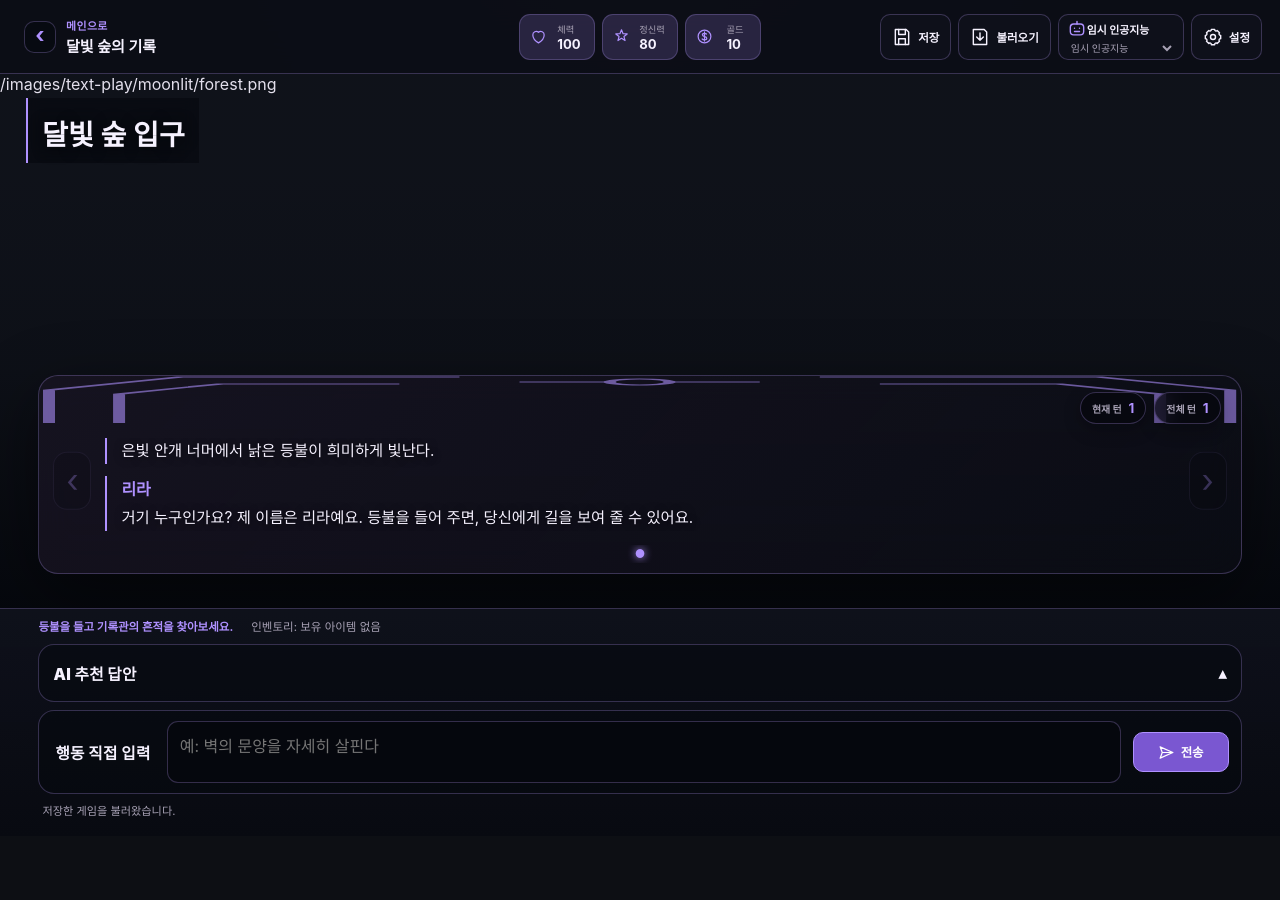
Text-Play 영어 화면 › 플레이 중 언어를 바꾸면 화면만 바뀌고 저장을 다시 불러오지 않는다
expect the text "저장한 게임을 불러왔습니다." is shown: met, box [42, 804, 175, 820]
Click the button with aria-label "게임 설정 열기": x=1226, y=36 [1191, 14, 1262, 60]
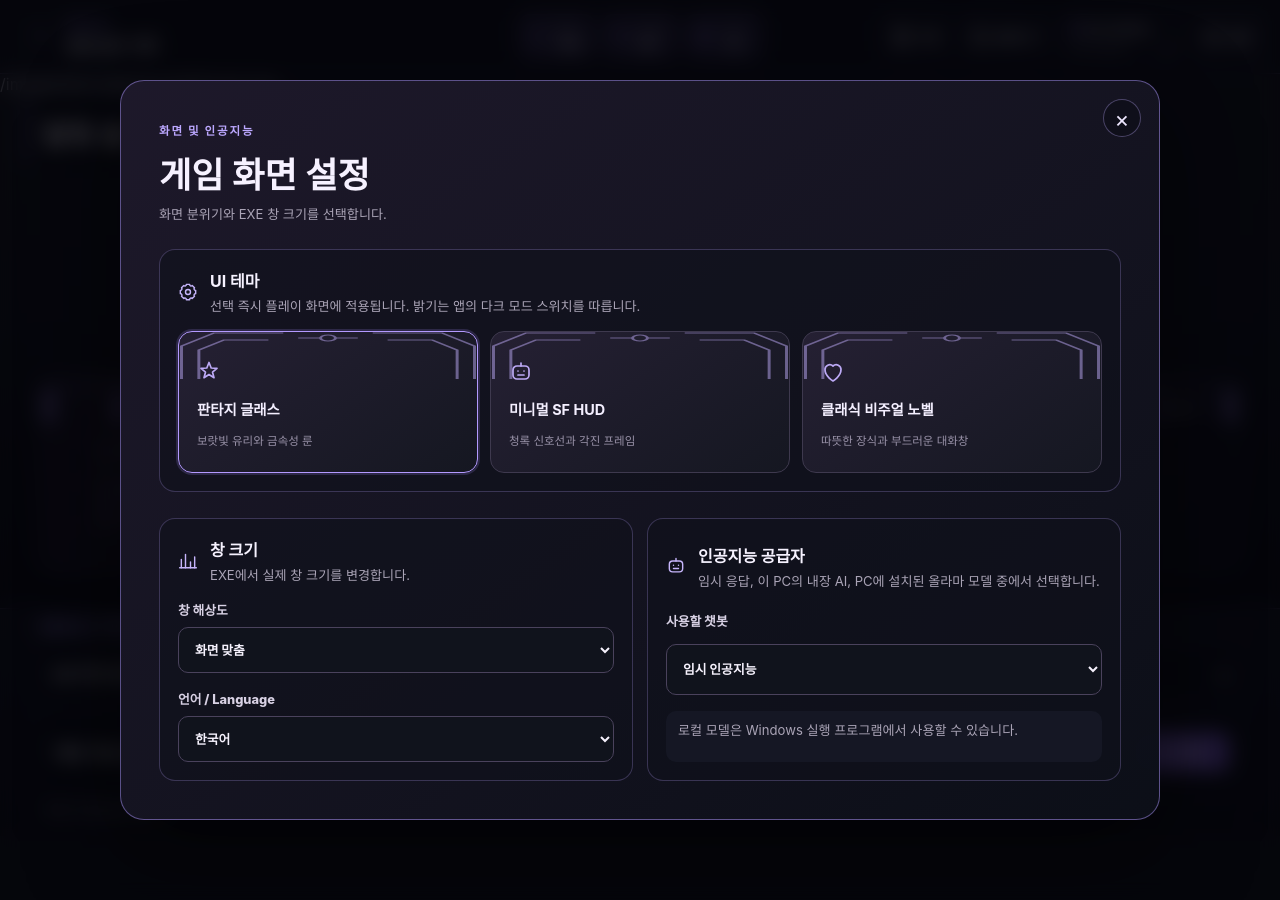
Select "English" in the dropdown labelled "언어 / Language": x=396, y=739 [178, 716, 614, 762]
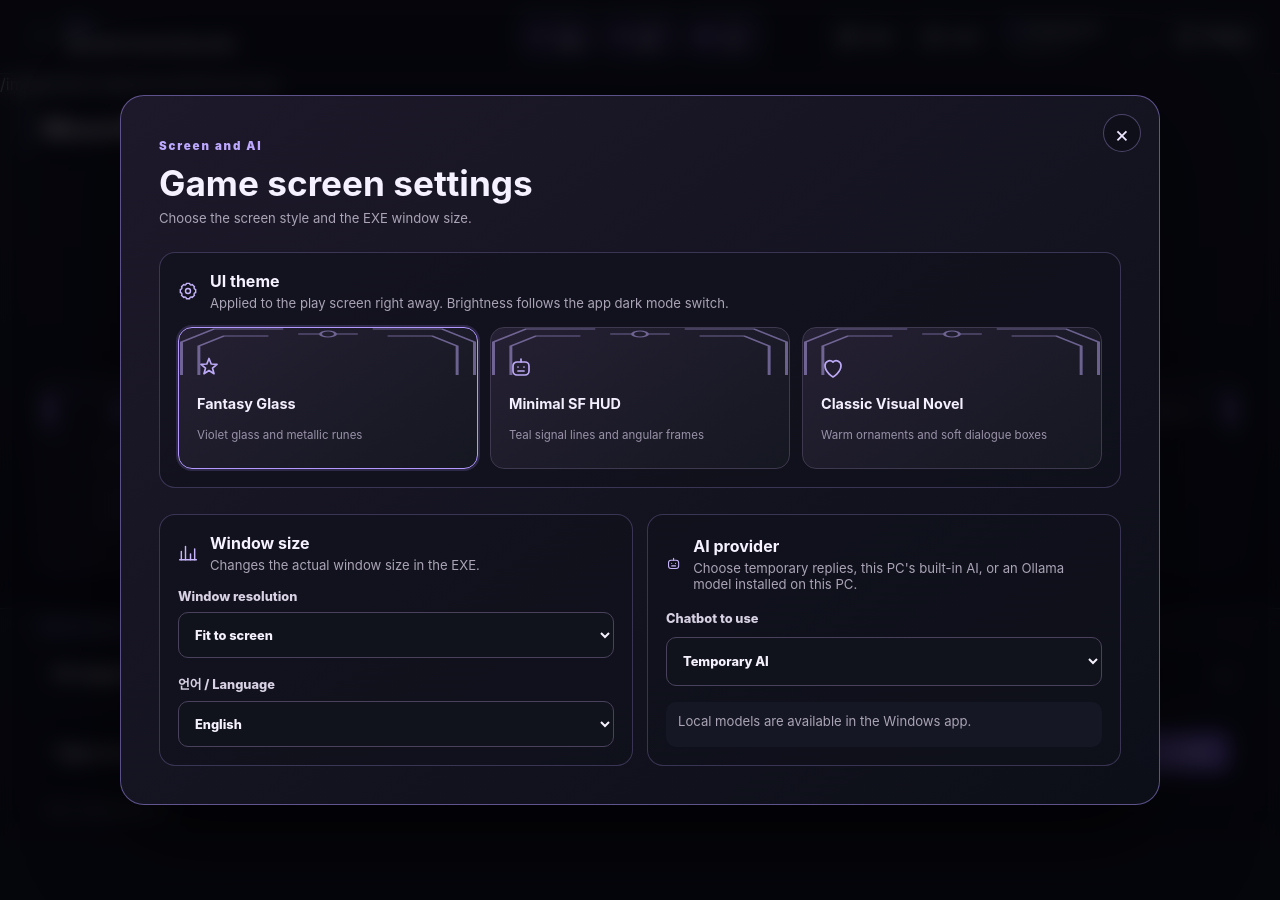
expect the heading "Moonlit Forest Gate" is shown: met, box [42, 112, 310, 146]
